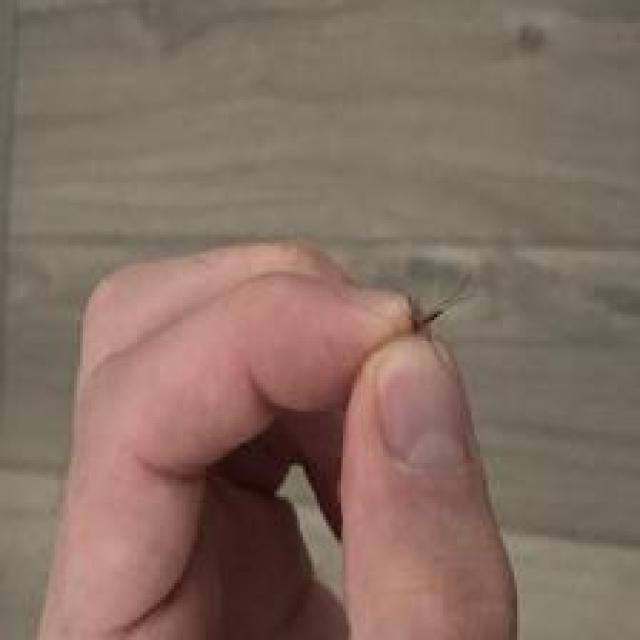Culex: (406, 270, 474, 339)
